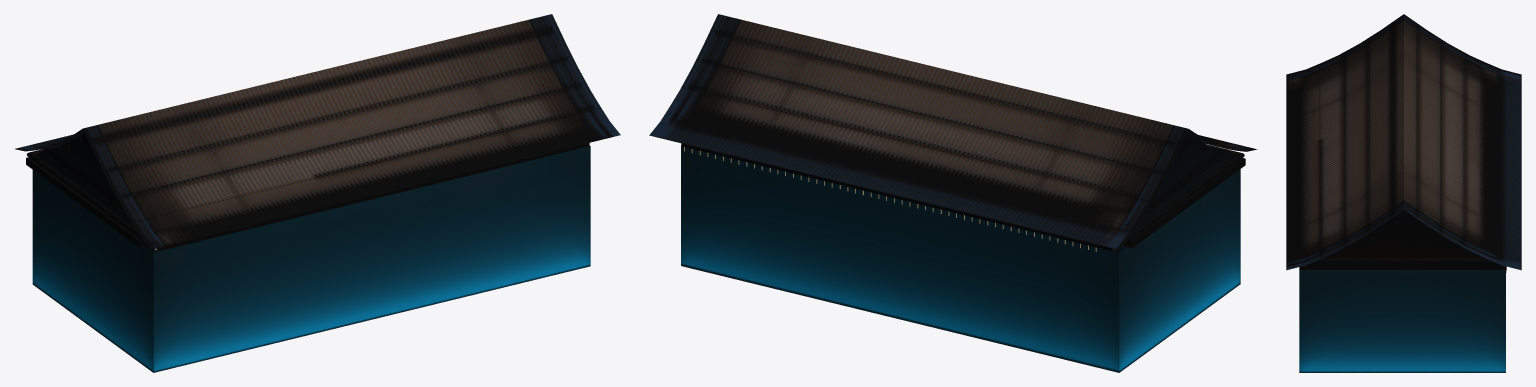
The model's file is gallery.FBX.
3 views of the same model, side by side, from view 1: azimuth 30°, elevation 25°; view 2: azimuth 150°, elevation 25°; view 3: azimuth 270°, elevation 25° (orthographic). The views are drawn at different scales.
Parts seen in each view (by area): view 1: 2floor_d5, wall_out2, wall_out1, 2floor_d2, 2floor_d3; view 2: 2floor_d5, wall_out2, wall_out1, 2floor_d2, 2floor_d3; view 3: 2floor_d5, wall_out2, wall_out1, 2floor_d3, 2floor_d2, floor_02.
Boxes of the visible parts, x1,y1,x2,y2 form: 2floor_d5: (15, 14, 620, 249); wall_out2: (32, 146, 590, 326); wall_out1: (32, 220, 590, 372); 2floor_d2: (26, 143, 589, 250); 2floor_d3: (37, 133, 155, 252); 2floor_d5: (649, 14, 1257, 250); wall_out2: (681, 146, 1240, 326); wall_out1: (681, 219, 1240, 372); 2floor_d2: (681, 143, 1245, 251); 2floor_d3: (1116, 133, 1233, 253); 2floor_d5: (1286, 14, 1521, 270); wall_out2: (1299, 270, 1505, 333); wall_out1: (1299, 333, 1505, 372); 2floor_d3: (1323, 210, 1484, 258); 2floor_d2: (1300, 258, 1506, 270); floor_02: (1299, 267, 1505, 270).
Size of what is drawn, in the model's own units: 32705 by 13446 by 16587.
Materials: 24 (13 with a texture image).
